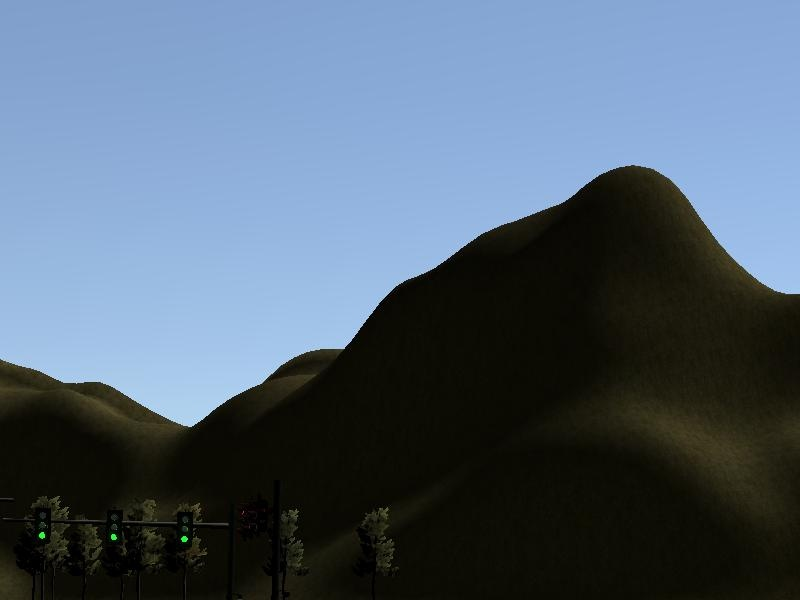GREEN: (31, 504, 54, 547), (103, 506, 125, 548), (176, 508, 198, 549)
